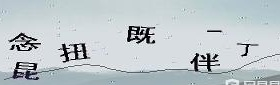chinese: (6, 29, 38, 55), (126, 23, 158, 48), (190, 49, 220, 75), (231, 38, 262, 60), (60, 44, 92, 64), (11, 60, 38, 81)
